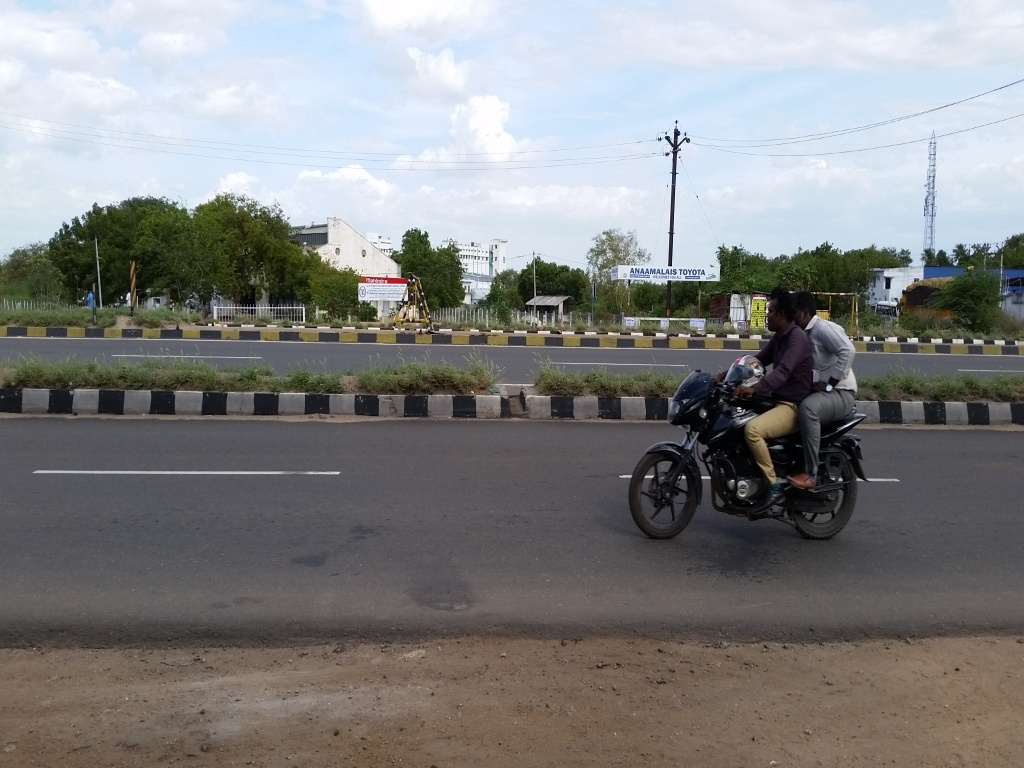biker: (604, 246, 911, 560)
nohelmet: (758, 281, 796, 341), (793, 280, 831, 340)
